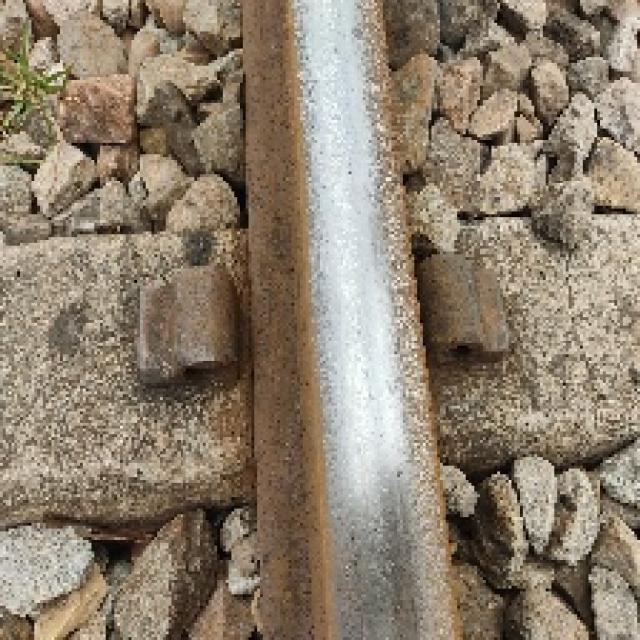Missing Fastener: (113, 279, 254, 391), (395, 261, 526, 367)
